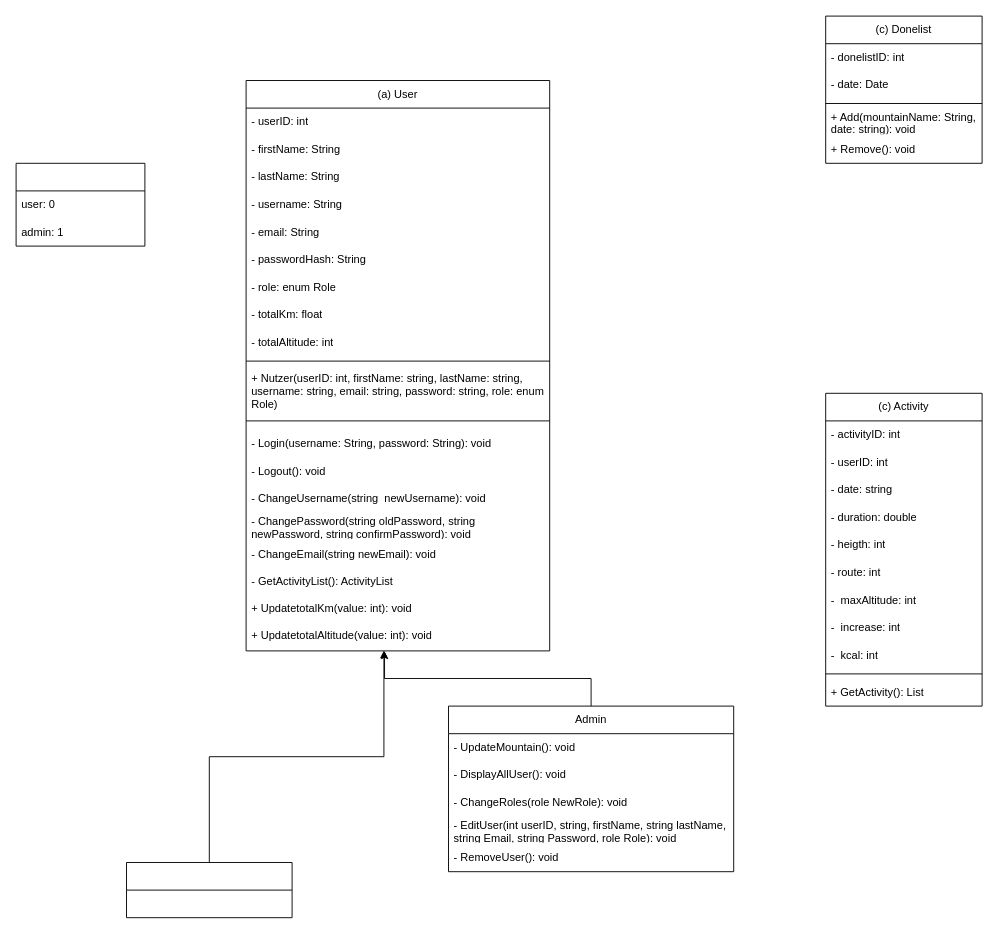
Some shapes in this 998 by 934 pixel diagram are drawn without their labels. The box of each missing label's shape, as (x1, y1, x2, y2) in pixels:
(e) Role: (15, 162, 145, 246)
NormalUser: (126, 862, 292, 918)
